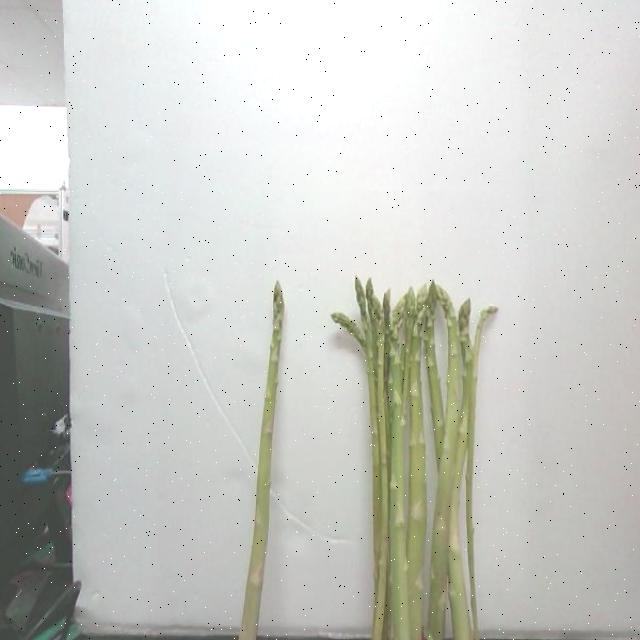aspargus: (240, 285, 288, 640)
